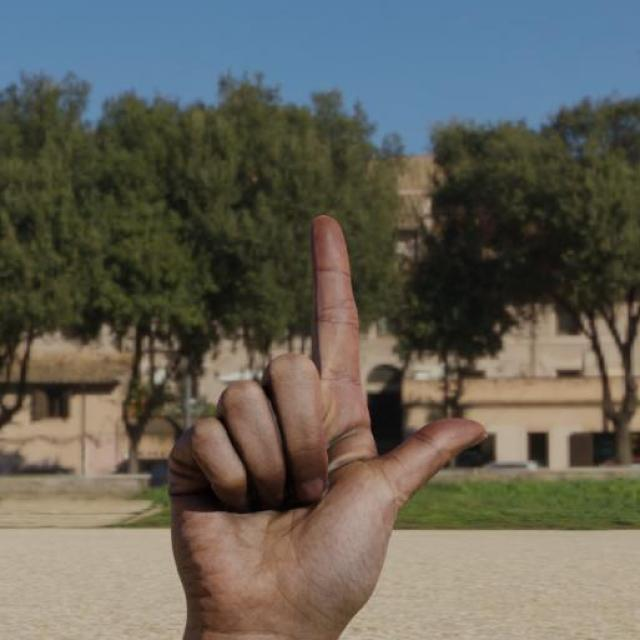L: (161, 196, 498, 640)
